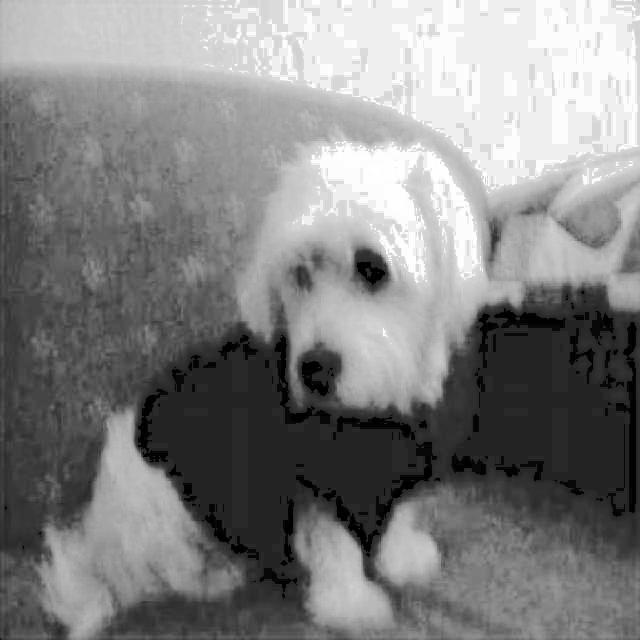Dog: (40, 120, 494, 640)
